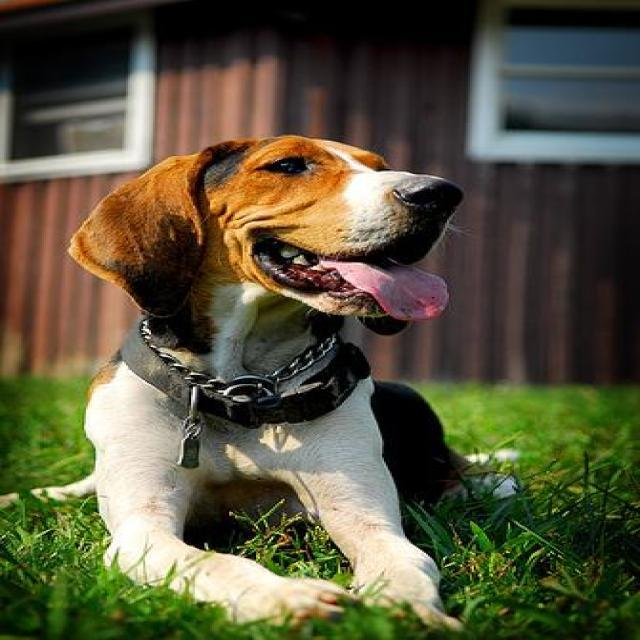adult_dog: (30, 131, 523, 632)
